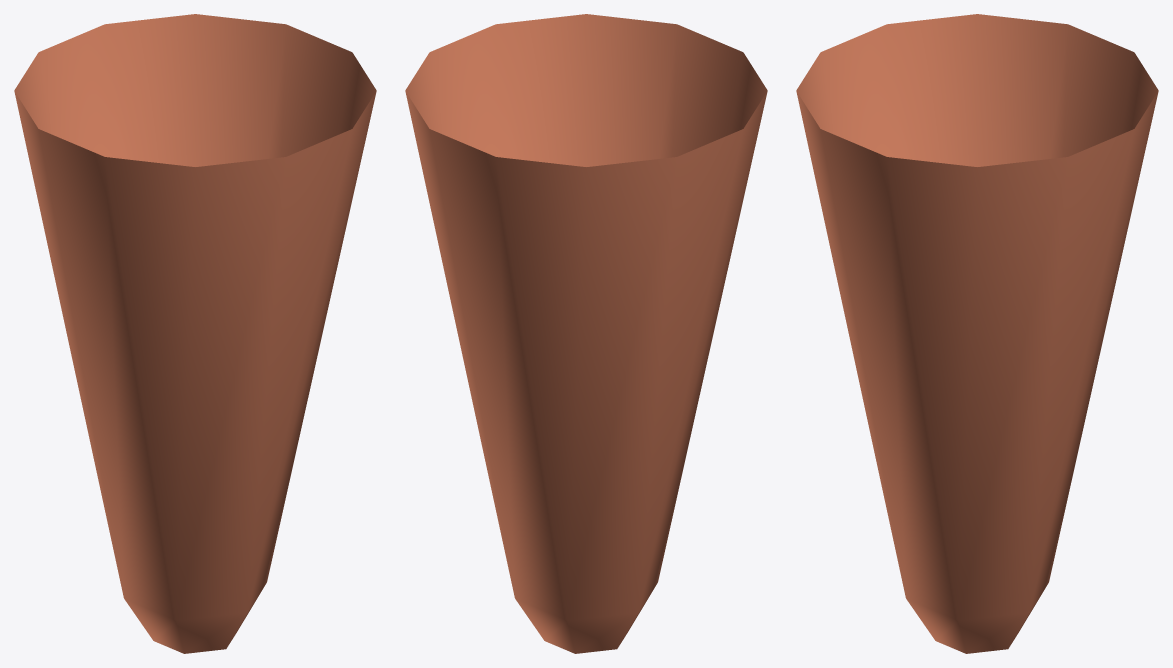
File: MarkerTip.fbx
3 views of the same model, side by side, from view 1: azimuth 30°, elevation 25°; view 2: azimuth 150°, elevation 25°; view 3: azimuth 270°, elevation 25° (orthographic).
Parts seen in each view (by area): view 1: WhiteboardMarker_tip; view 2: WhiteboardMarker_tip; view 3: WhiteboardMarker_tip.
Part boxes in pixels (x1=…): WhiteboardMarker_tip: x1=14, y1=14, x2=376, y2=653; WhiteboardMarker_tip: x1=405, y1=14, x2=767, y2=653; WhiteboardMarker_tip: x1=796, y1=14, x2=1158, y2=653.
Bounding box in the file's own units: 13 × 21.59 × 13.
